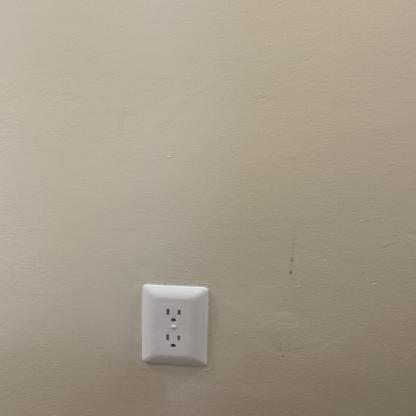OUTLET: (139, 282, 213, 370)
